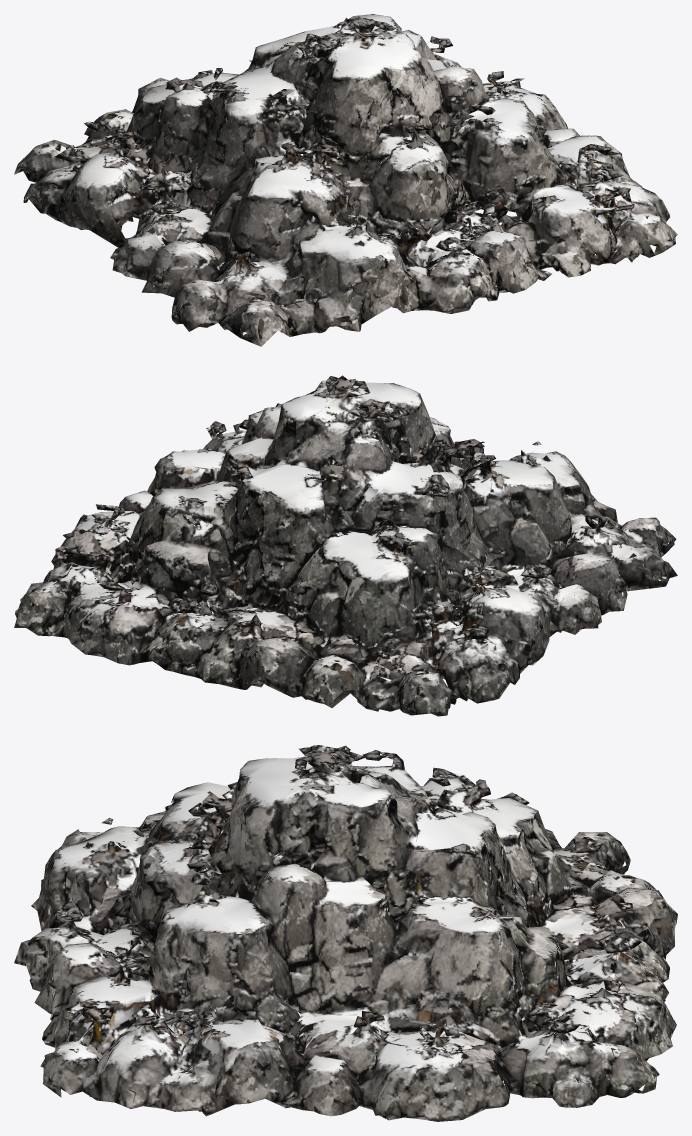
The model's file is InkPart06_BaseMound.fbx.
3 renders of one model, top to bottom at view 1: azimuth 30°, elevation 25°; view 2: azimuth 150°, elevation 25°; view 3: azimuth 270°, elevation 25°, orthographic. The views are drawn at different scales.
Visible parts, largest first — view 1: texture_mapping; view 2: texture_mapping; view 3: texture_mapping.
Part boxes in pixels (x1,y1,x2,y2): texture_mapping: [14, 14, 677, 346]; texture_mapping: [14, 375, 677, 716]; texture_mapping: [14, 745, 677, 1121].
Size of the model in its own units: 0.9959 by 0.9796 by 0.3763.
Materials: 1 (1 with a texture image).
